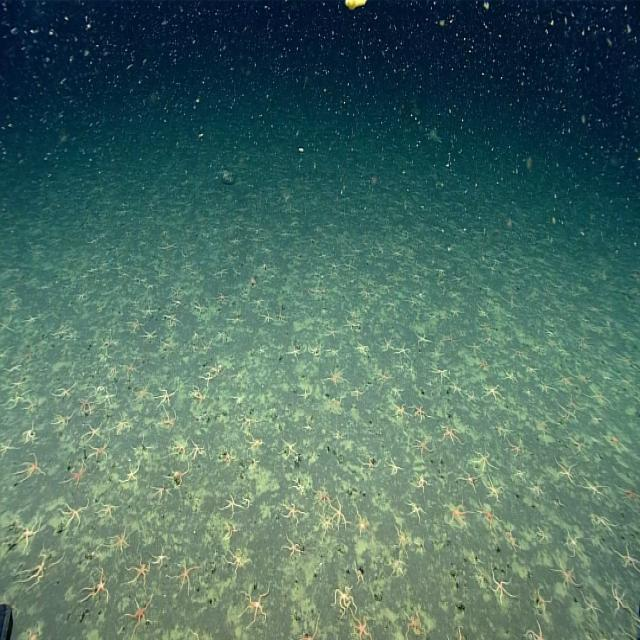brittle-stars: (12, 544, 58, 594), (238, 587, 268, 625), (126, 594, 155, 633), (488, 566, 515, 603), (553, 557, 580, 591), (86, 566, 110, 604), (17, 518, 41, 554), (18, 454, 46, 484), (165, 458, 190, 491), (129, 555, 153, 589), (615, 542, 640, 574), (174, 559, 196, 594), (478, 504, 502, 536), (60, 502, 87, 530), (336, 586, 358, 619), (610, 583, 630, 618), (350, 614, 376, 640), (226, 547, 251, 574), (446, 502, 470, 530), (583, 476, 608, 502), (558, 529, 585, 553), (554, 456, 576, 485), (586, 510, 617, 530), (220, 491, 242, 519), (405, 609, 425, 639), (352, 509, 372, 539), (282, 532, 304, 559), (67, 459, 89, 486), (530, 588, 551, 616), (582, 593, 602, 621), (474, 447, 496, 472), (484, 476, 504, 503), (441, 423, 463, 447), (457, 467, 478, 492), (414, 436, 434, 462), (110, 529, 130, 555), (618, 483, 640, 506), (98, 498, 119, 522), (124, 458, 142, 486), (314, 481, 332, 509), (282, 499, 302, 524), (407, 499, 427, 524), (326, 366, 348, 388), (238, 412, 260, 434), (482, 381, 503, 404), (393, 524, 409, 554), (532, 525, 552, 549), (583, 390, 613, 406), (293, 624, 322, 640), (89, 443, 111, 464), (280, 440, 300, 463), (0, 391, 20, 414), (526, 621, 550, 640), (333, 499, 348, 529), (22, 421, 40, 446), (160, 408, 178, 433), (152, 482, 174, 502), (112, 414, 132, 436), (288, 474, 310, 494), (413, 469, 431, 493), (386, 558, 410, 576), (413, 402, 430, 427), (508, 434, 525, 459), (55, 382, 76, 402), (130, 384, 151, 404), (157, 387, 176, 409), (54, 412, 73, 434), (241, 434, 264, 452), (534, 414, 551, 438), (173, 438, 189, 463), (432, 362, 452, 382), (85, 422, 106, 441), (557, 371, 576, 392), (189, 440, 207, 462), (218, 446, 236, 468), (151, 547, 169, 569), (386, 456, 403, 479), (21, 623, 44, 640), (317, 513, 333, 537), (391, 402, 409, 422), (124, 358, 141, 379), (376, 367, 393, 388), (100, 387, 117, 408), (555, 408, 578, 423), (361, 453, 379, 472), (3, 361, 23, 378), (607, 433, 628, 449), (415, 330, 431, 350), (104, 391, 120, 411), (126, 318, 146, 334), (287, 341, 302, 362), (504, 529, 519, 550), (240, 490, 254, 512), (134, 439, 151, 457), (397, 342, 413, 361), (191, 385, 207, 404), (354, 341, 371, 358), (164, 312, 182, 328), (448, 378, 464, 396), (88, 382, 106, 398), (504, 366, 519, 385), (259, 307, 273, 327), (327, 324, 341, 344), (530, 479, 544, 499), (198, 369, 212, 389), (0, 315, 14, 335), (225, 521, 239, 541), (142, 328, 158, 345), (142, 302, 156, 321), (324, 322, 338, 341), (381, 335, 395, 354), (0, 440, 14, 459), (95, 336, 114, 350), (514, 462, 526, 484), (157, 339, 177, 352), (210, 360, 226, 376), (569, 439, 586, 454), (8, 378, 25, 393), (352, 384, 366, 402), (443, 628, 464, 640), (189, 301, 207, 315), (215, 290, 230, 306), (247, 453, 261, 470), (75, 396, 88, 414), (466, 340, 480, 356), (228, 313, 244, 327), (274, 308, 288, 324), (306, 345, 322, 359), (353, 565, 364, 585), (494, 420, 506, 438), (412, 540, 426, 555), (474, 358, 488, 373), (443, 332, 458, 346), (64, 327, 78, 342), (564, 399, 580, 412), (25, 398, 36, 416), (390, 385, 404, 399), (537, 380, 552, 393), (22, 313, 38, 325), (99, 347, 110, 364), (298, 387, 312, 400), (464, 391, 478, 403), (325, 348, 341, 358), (344, 320, 357, 332), (54, 325, 64, 340), (430, 348, 442, 360), (333, 392, 342, 408), (172, 286, 184, 298), (232, 395, 244, 407), (474, 572, 485, 585), (526, 366, 540, 376), (108, 362, 118, 376), (203, 338, 213, 352), (523, 384, 533, 397), (405, 366, 418, 376), (303, 421, 312, 435), (478, 325, 492, 334), (21, 350, 32, 361), (510, 350, 522, 360), (86, 404, 96, 416), (170, 298, 182, 308), (590, 414, 599, 427), (396, 360, 404, 374), (189, 341, 197, 354), (254, 298, 264, 308), (484, 334, 492, 345), (259, 344, 267, 354), (532, 344, 543, 351), (347, 310, 358, 316), (558, 348, 566, 356), (192, 328, 199, 336), (235, 372, 243, 379)
